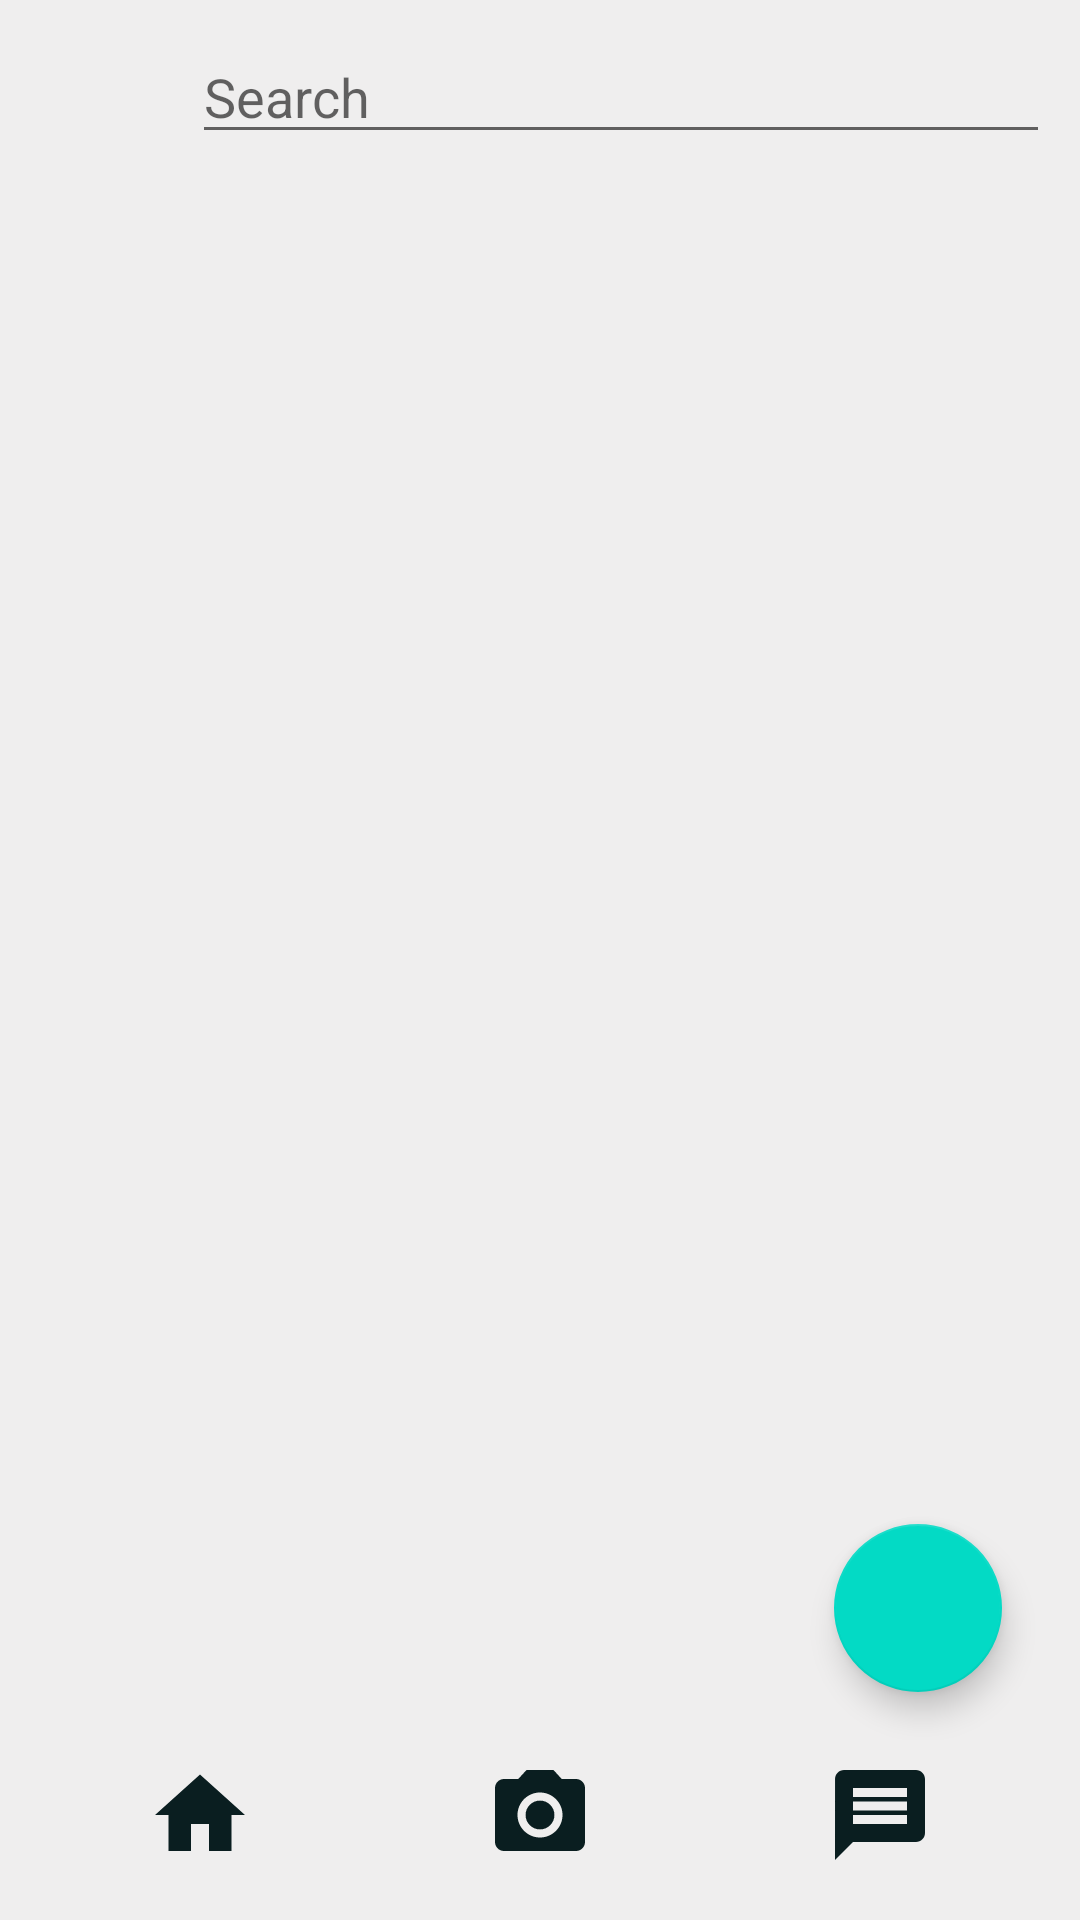

Icon bounding boxes for this 1080px x 1920px phone screenshot, format bbox(x1, y1, x2, y2):
camera: bbox(495, 1770, 585, 1851)
home: bbox(155, 1774, 245, 1851)
message: bbox(835, 1770, 925, 1860)
